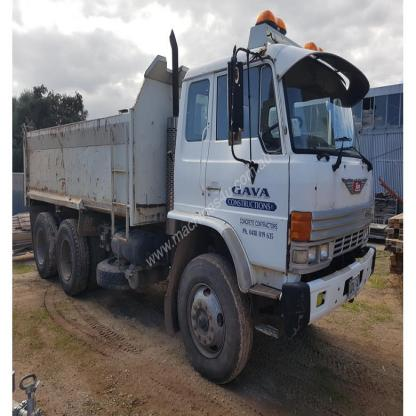dump_truck: (20, 13, 373, 386)
